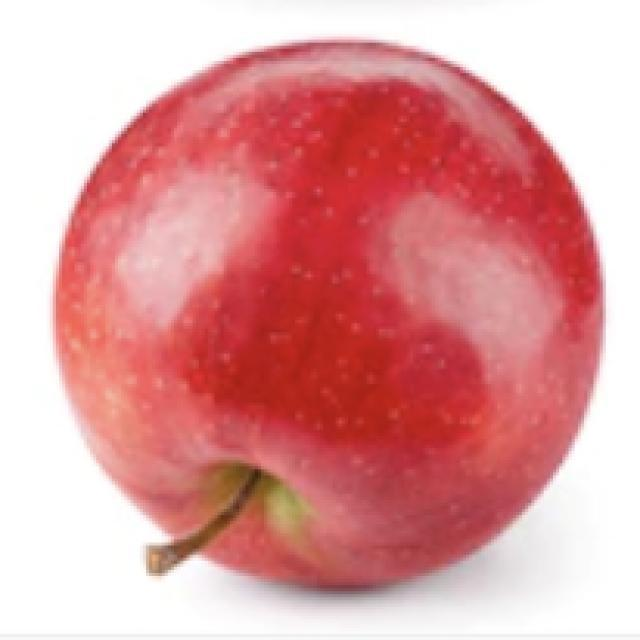Fresh Apple: (58, 34, 597, 564)
